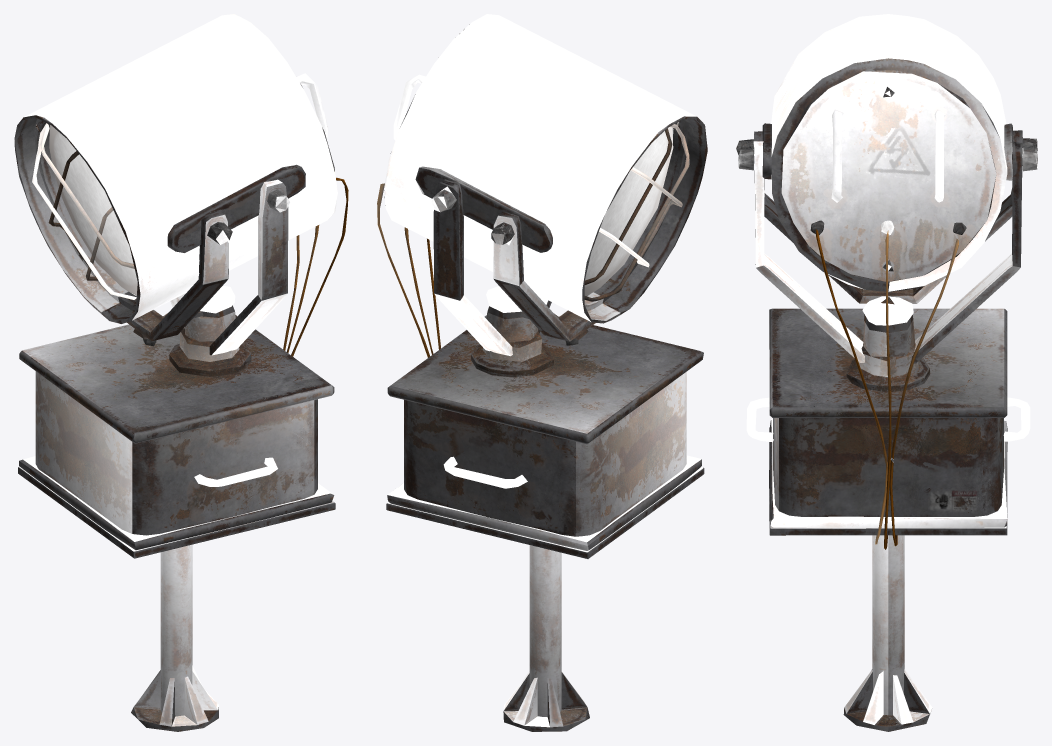
The model's file is SM_Spotlight.fbx.
3 views of the same model, side by side, from view 1: azimuth 30°, elevation 25°; view 2: azimuth 150°, elevation 25°; view 3: azimuth 270°, elevation 25° (orthographic). The views are drawn at different scales.
Visible parts, largest first — view 1: SM_Spotlight_LOD0; view 2: SM_Spotlight_LOD0; view 3: SM_Spotlight_LOD0.
Boxes of the visible parts, box(x1,y1,x2,y2) form: SM_Spotlight_LOD0: box(14, 14, 348, 731); SM_Spotlight_LOD0: box(377, 14, 707, 731); SM_Spotlight_LOD0: box(736, 14, 1037, 731).
Bounding box in the file's own units: 49.52 × 47.26 × 119.
Materials: 1 (1 with a texture image).
